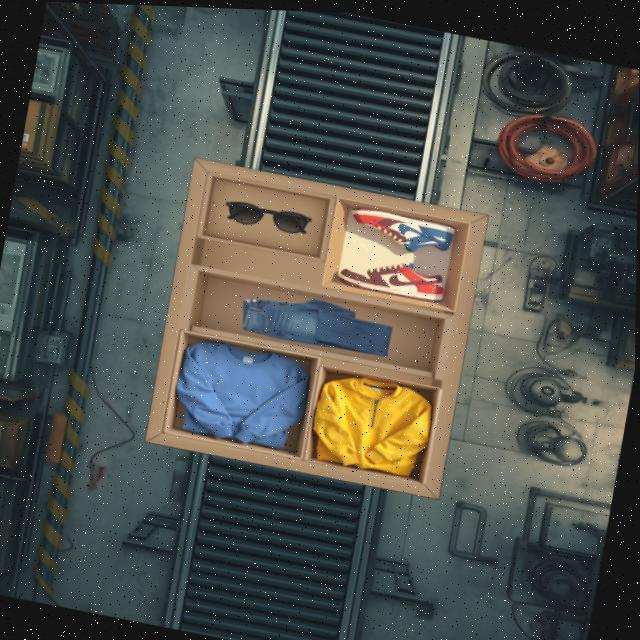jacket: (176, 343, 308, 449), (314, 378, 431, 476)
sneaker: (352, 209, 455, 252), (339, 265, 444, 302)
sunglasses: (226, 201, 311, 234)
trousers: (243, 298, 392, 357)
